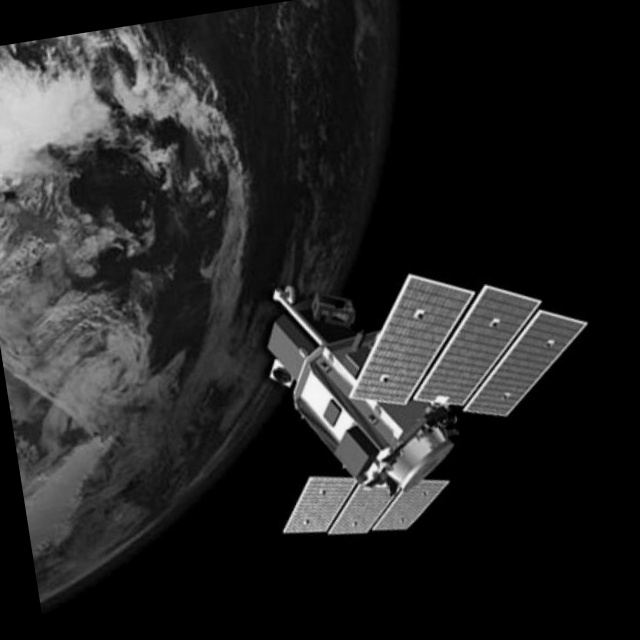medium_debris: (232, 210, 624, 560)
